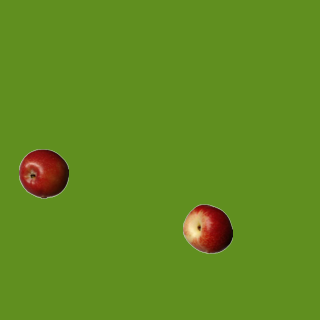Apple Braeburn: (18, 148, 68, 198)
Nectarine: (182, 203, 232, 253)
